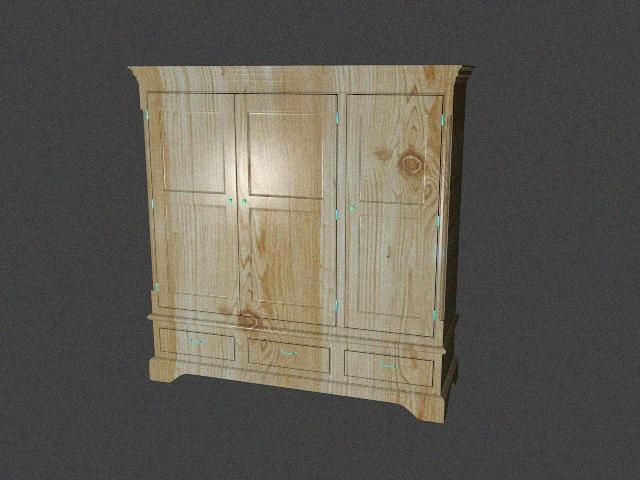cabinet_door: (238, 95, 336, 322), (346, 96, 439, 331), (152, 94, 238, 312), (346, 356, 434, 382), (250, 344, 330, 369), (160, 332, 234, 357)
handle: (279, 345, 305, 361), (187, 334, 209, 352), (377, 359, 402, 373), (347, 201, 359, 214), (224, 195, 234, 206), (239, 198, 249, 208)
